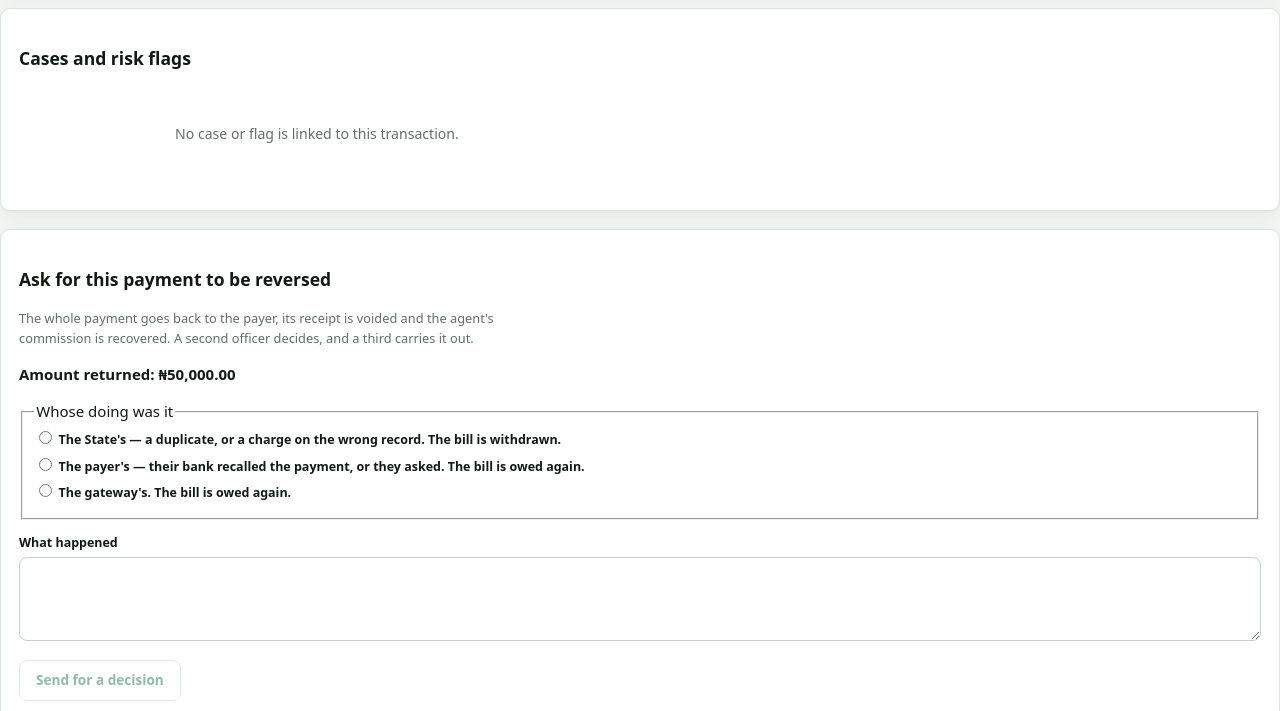
Test: a settled payment › says why the server would not take it
(page scrolled)
Type "Charged twice for the same shop this quarter." into the text box labelled "What happened" at (640,599), box [19,557,1261,641]
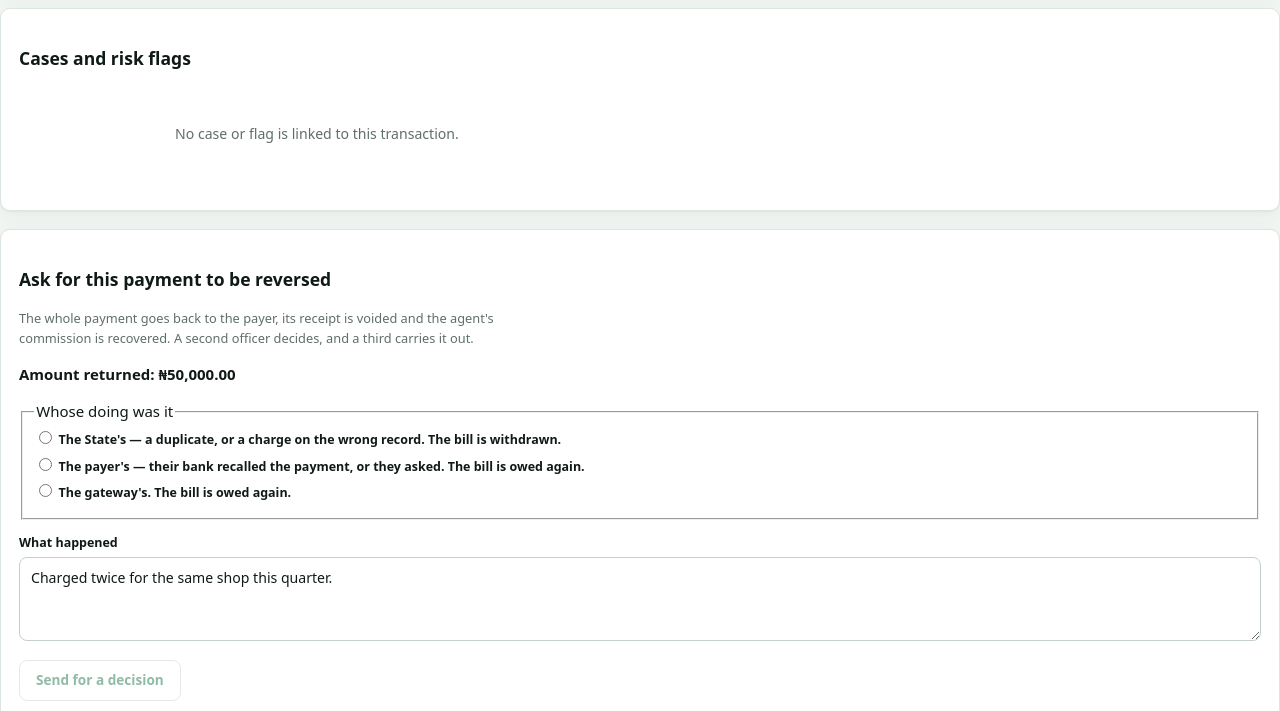
Click the radio button labelled "The gateway's. The bill is owed again." at (46,491), box [39,484,52,498]
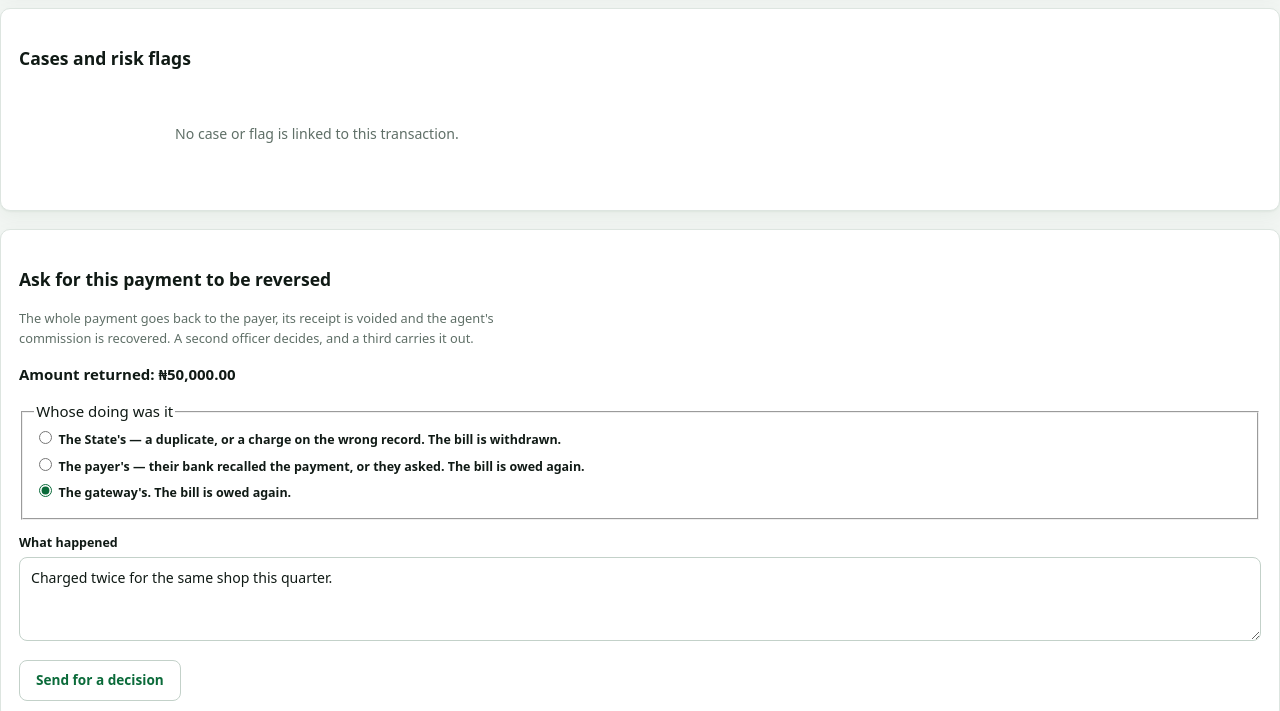
Click the button "Send for a decision" at (100,680), box [19,660,181,700]
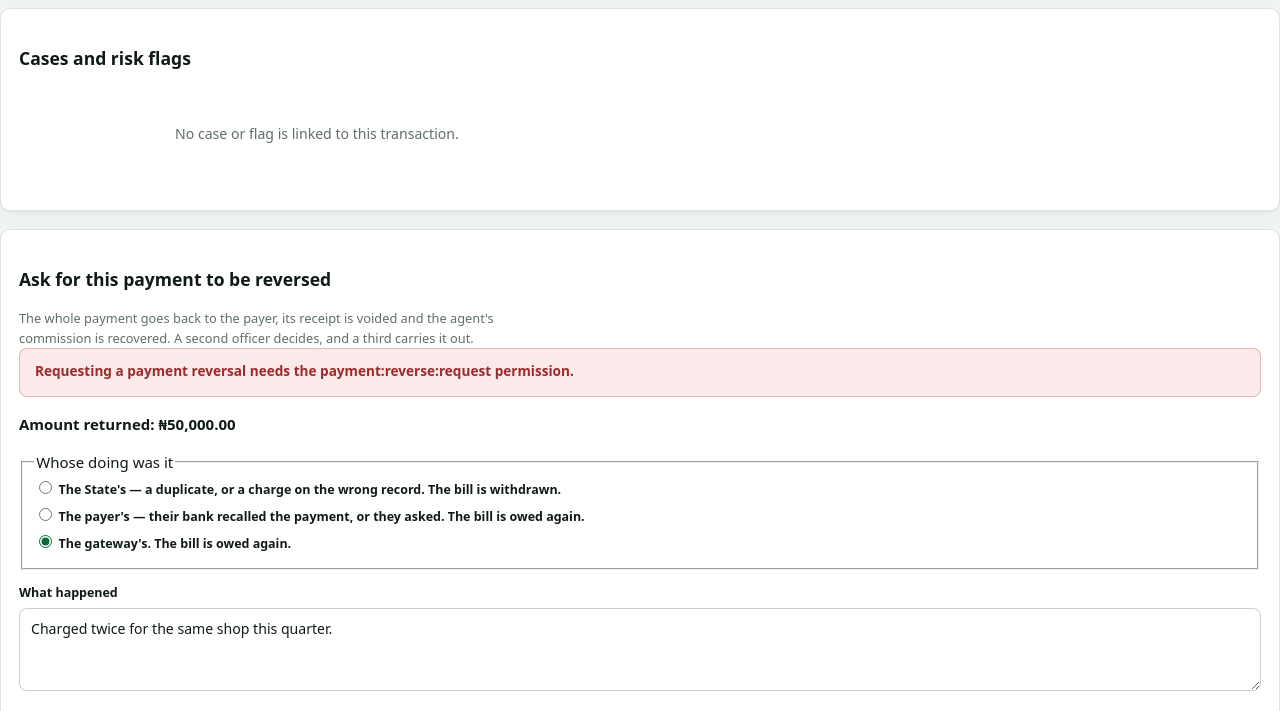
Check: the text "needs the payment:reverse:request permission" is shown, box [35,361,574,380]
